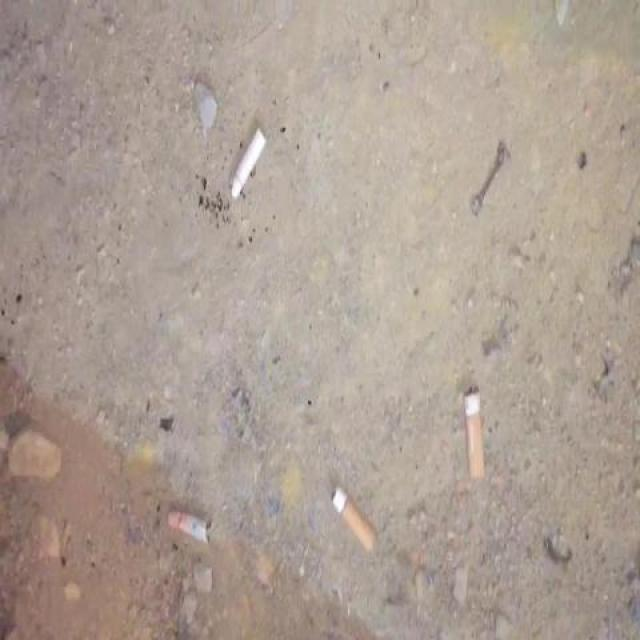non-organic waste: (327, 482, 381, 557), (224, 125, 268, 204), (460, 382, 489, 490), (162, 500, 222, 545)
